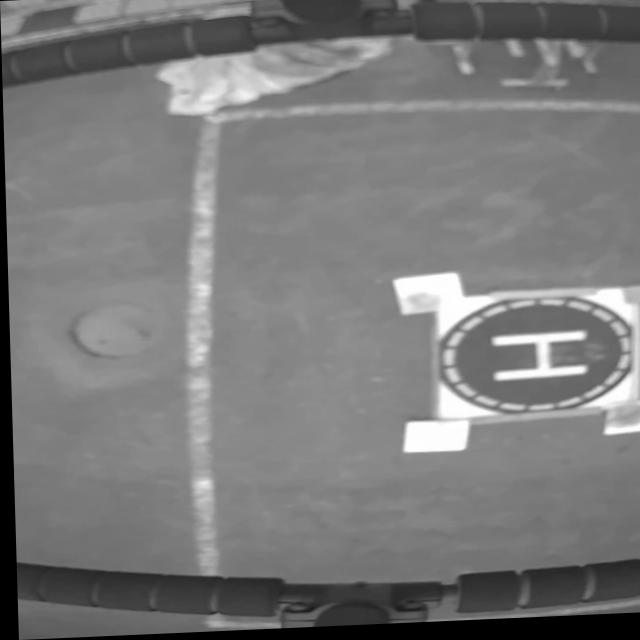Helipad: (485, 334, 588, 386)
